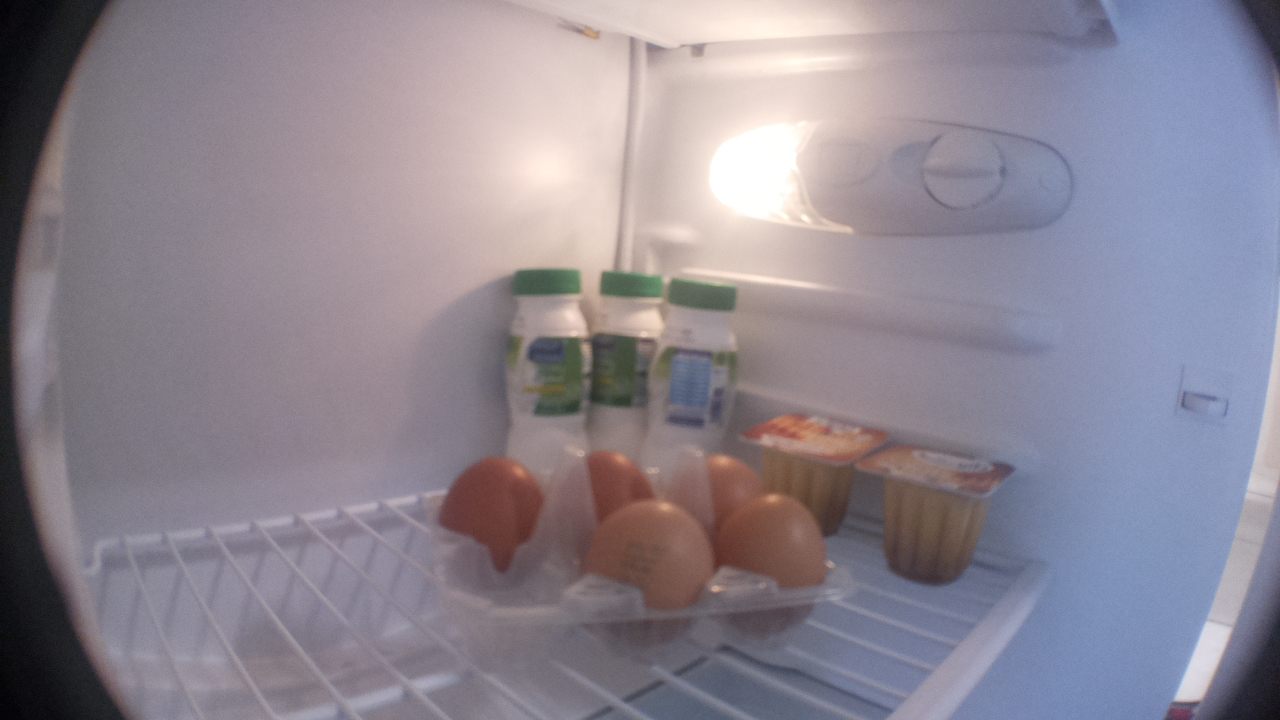caramel: (853, 437, 1024, 588), (734, 408, 884, 546)
egg: (579, 501, 719, 642), (719, 490, 832, 643), (433, 452, 549, 582), (563, 448, 661, 499), (689, 452, 765, 504)
laban: (497, 264, 595, 455), (654, 274, 751, 445), (587, 267, 666, 448)
